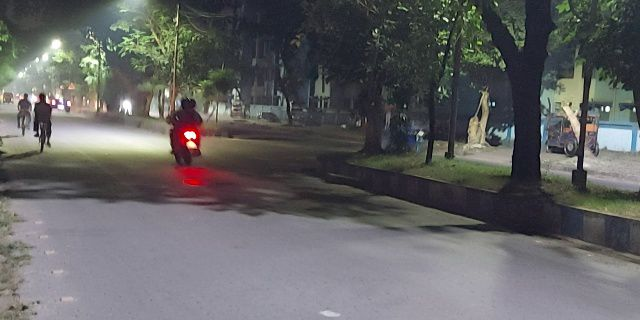Cycle: (35, 89, 53, 153)
Motorbike: (162, 92, 204, 166)
